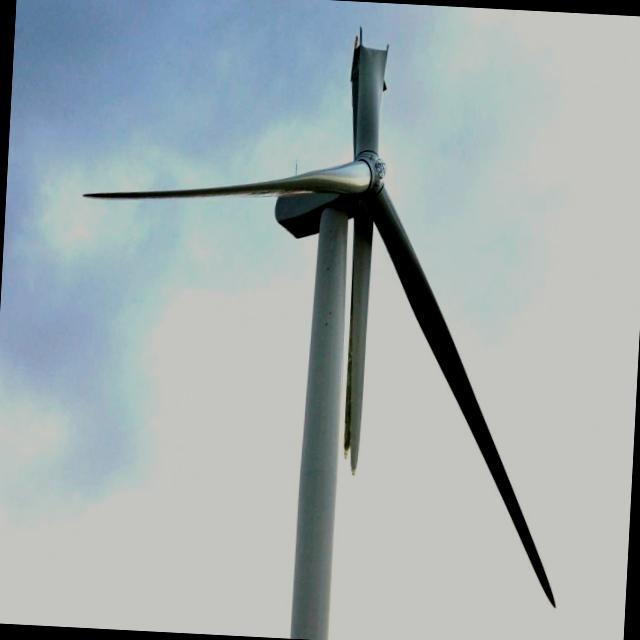crack: (312, 9, 415, 462)
